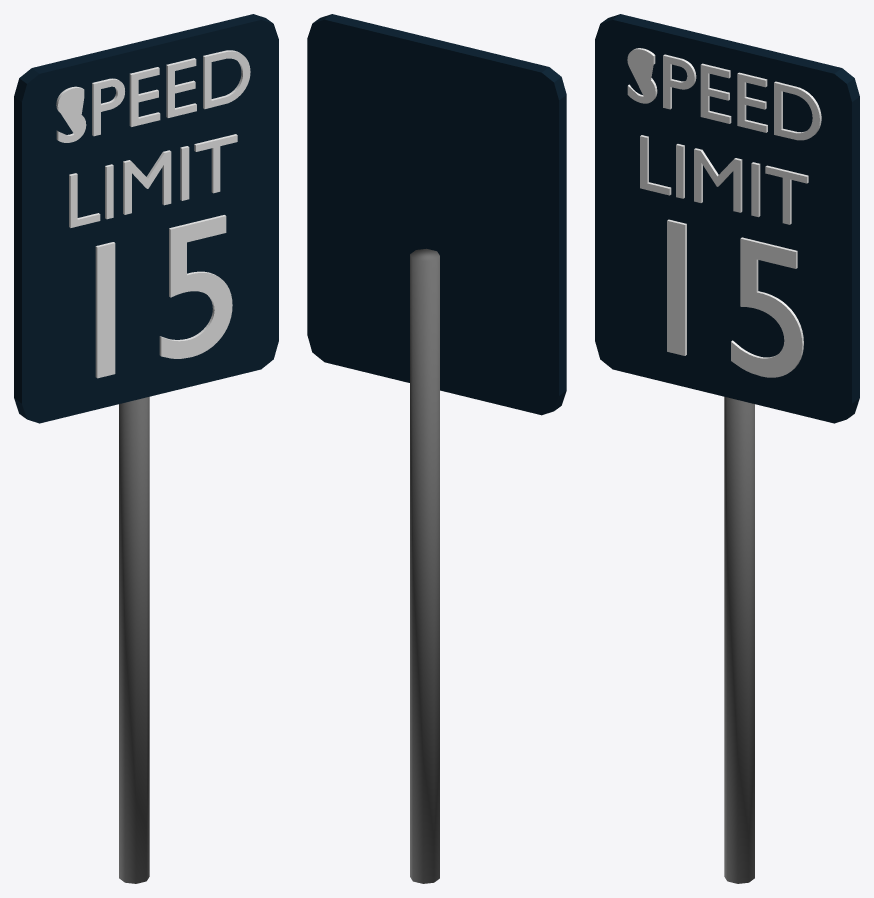
Rendered from Prop_StreetSign_Speed_15.fbx.
3 views of the same model, side by side, from view 1: azimuth 30°, elevation 25°; view 2: azimuth 150°, elevation 25°; view 3: azimuth 330°, elevation 25° (orthographic). The views are drawn at different scales.
Visible parts, largest first — view 1: Prop_StreetSign_Speed_15; view 2: Prop_StreetSign_Speed_15; view 3: Prop_StreetSign_Speed_15.
Part boxes in pixels (x1=…): Prop_StreetSign_Speed_15: x1=14, y1=14, x2=278, y2=883; Prop_StreetSign_Speed_15: x1=307, y1=14, x2=566, y2=883; Prop_StreetSign_Speed_15: x1=595, y1=14, x2=859, y2=883.
Size of the model in its own units: 140 by 438 by 23.65.
